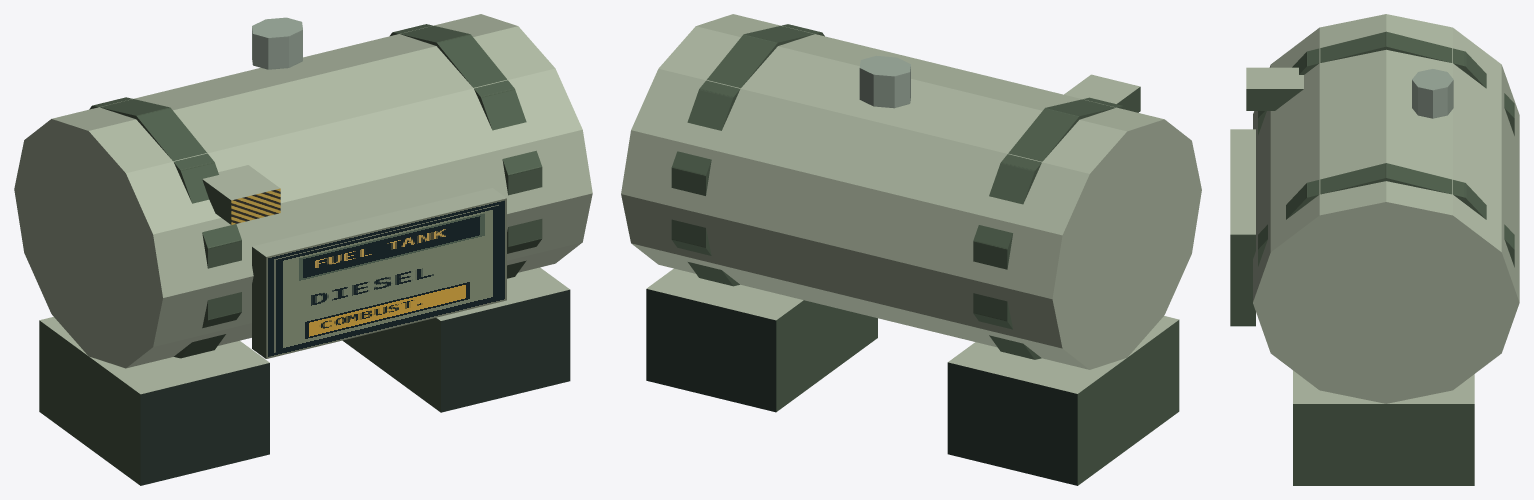
File: tanque_combustible_generador.glb
The picture shows the model from 3 angles, left to right: view 1: azimuth 30°, elevation 25°; view 2: azimuth 150°, elevation 25°; view 3: azimuth 270°, elevation 25°; orthographic projection. The views are drawn at different scales.
Visible parts, largest first — view 1: GENERADORES_PROPS; view 2: GENERADORES_PROPS; view 3: GENERADORES_PROPS.
Boxes of the visible parts, box(x1,y1,x2,y2) form: GENERADORES_PROPS: box(14, 14, 592, 485); GENERADORES_PROPS: box(621, 14, 1201, 485); GENERADORES_PROPS: box(1230, 14, 1519, 485).
Size of the model in its own units: 1.26 by 0.9807 by 0.823.
1 material, 1 textured.
